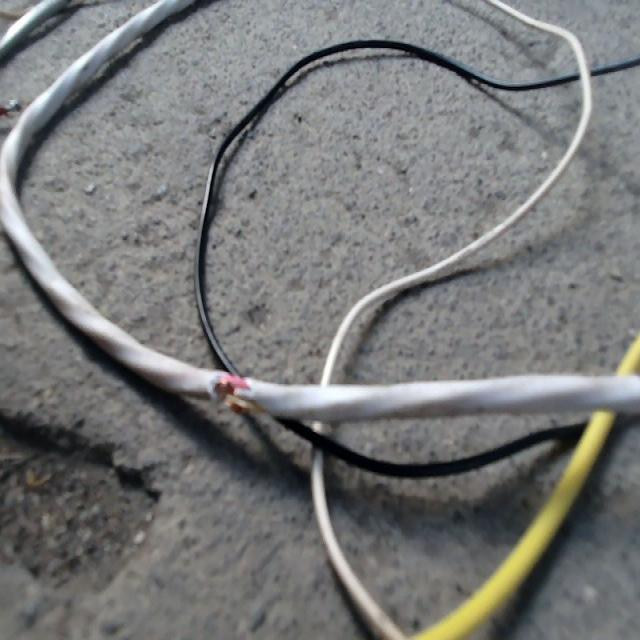-: (206, 371, 262, 417)
